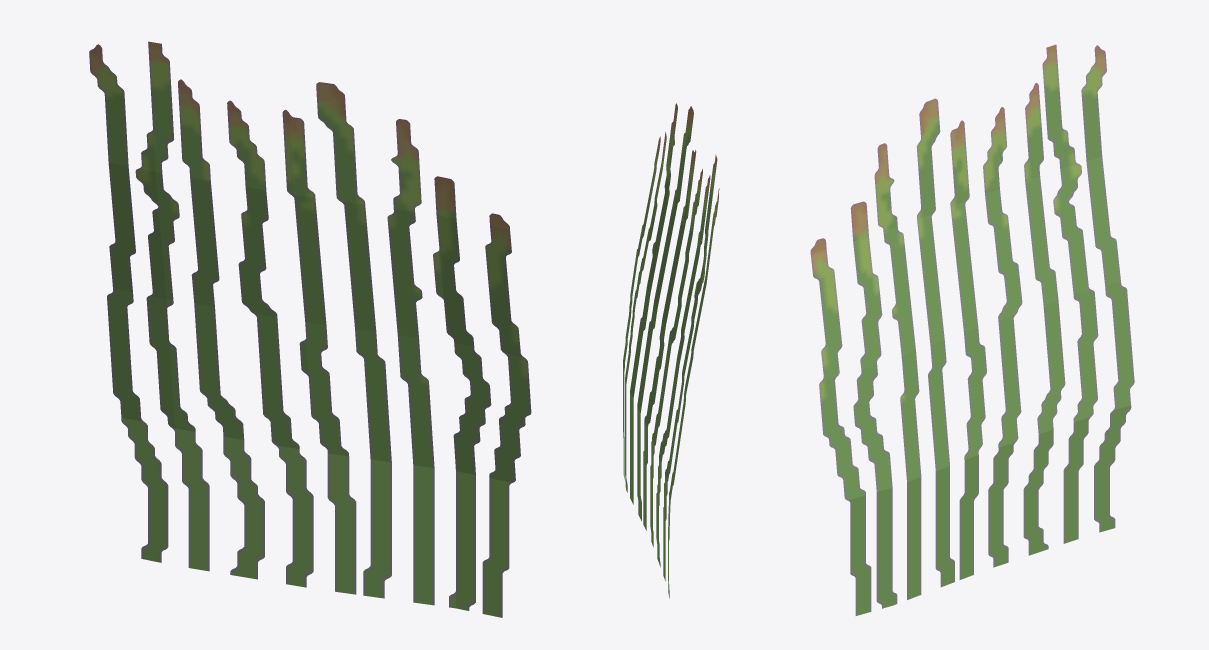
The model's file is crap_grass.fbx.
3 renders of one model, left to right at view 1: azimuth 30°, elevation 25°; view 2: azimuth 150°, elevation 25°; view 3: azimuth 270°, elevation 25°, orthographic. The views are drawn at different scales.
Parts seen in each view (by area): view 1: Crap_grass.096; view 2: Crap_grass.096; view 3: Crap_grass.096.
Part boxes in pixels (x1,y1,x2,y2): Crap_grass.096: (89, 41, 531, 617); Crap_grass.096: (623, 103, 719, 598); Crap_grass.096: (810, 44, 1134, 615).
Bounding box in the file's own units: 0.7702 × 1.13 × 0.9573.
Materials: 1 (1 with a texture image).
